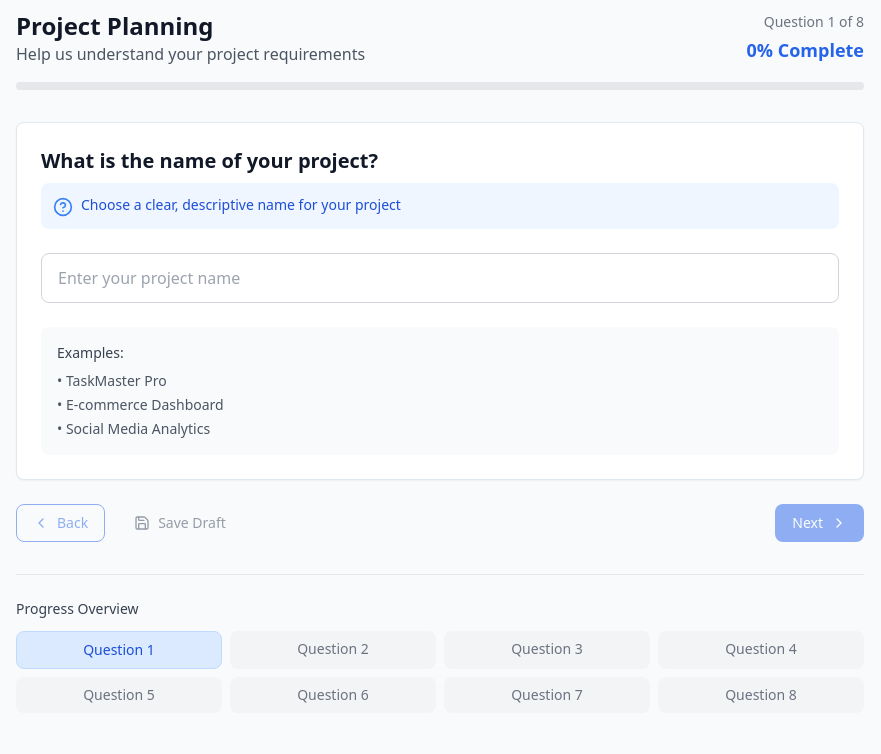
Scenario: PlanningFlow › Answer Persistence › should preserve answers when navigating back and forth
The image size is (881, 754).
# Fill first question
In the field with placeholder "Enter your project name": (440, 278) [41,253,839,303], type "Test Project"
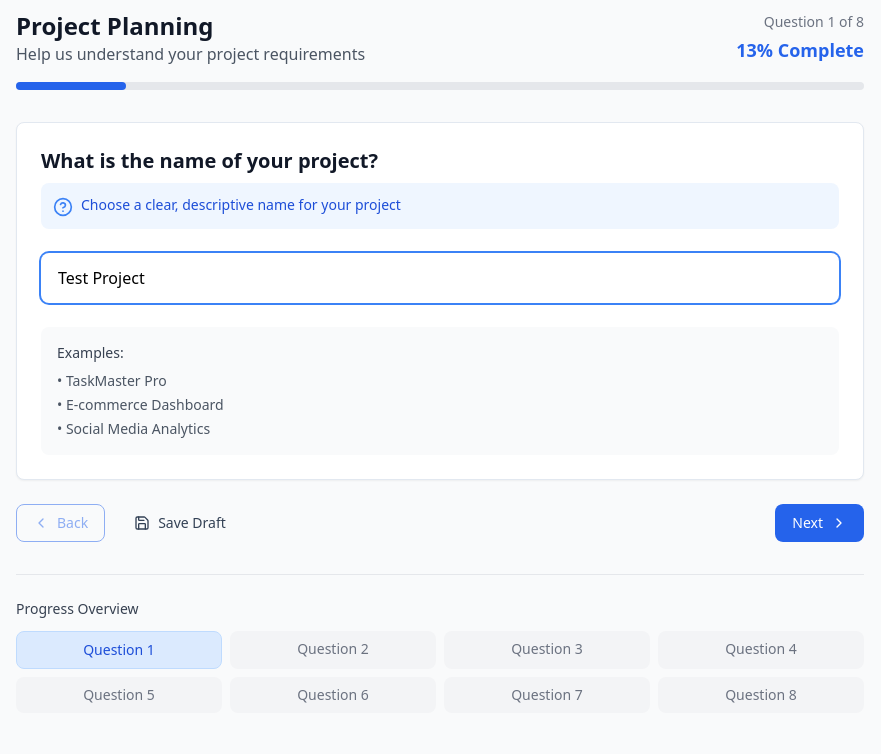
Check: the button "Next" is enabled
Click the button "Next": (820, 523) [775,504,864,542]
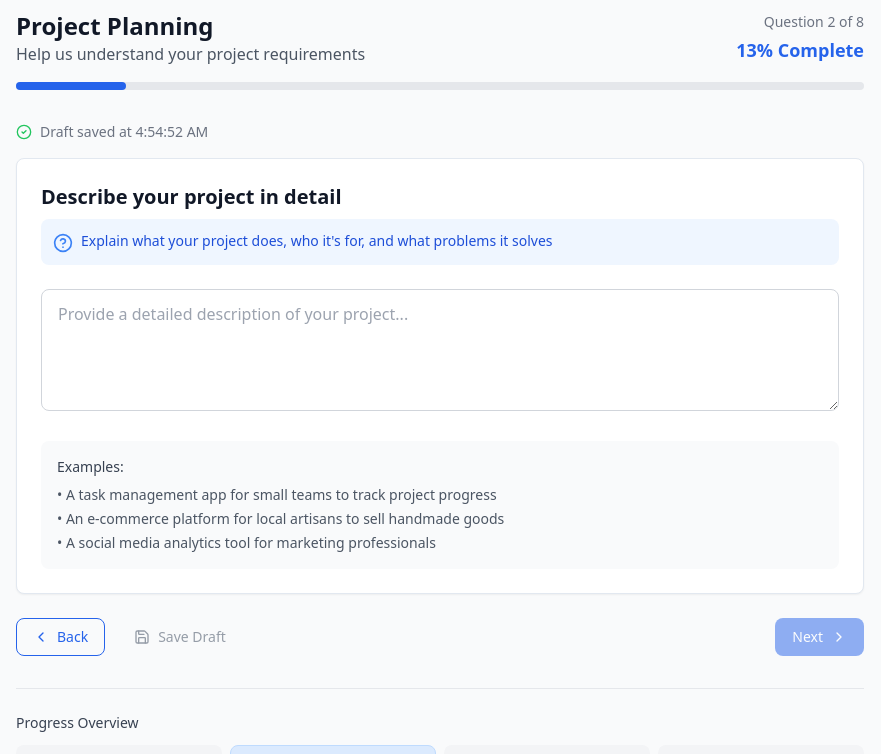
Check: the button "Back" is enabled
Click the button "Back": (61, 637) [16,618,105,656]
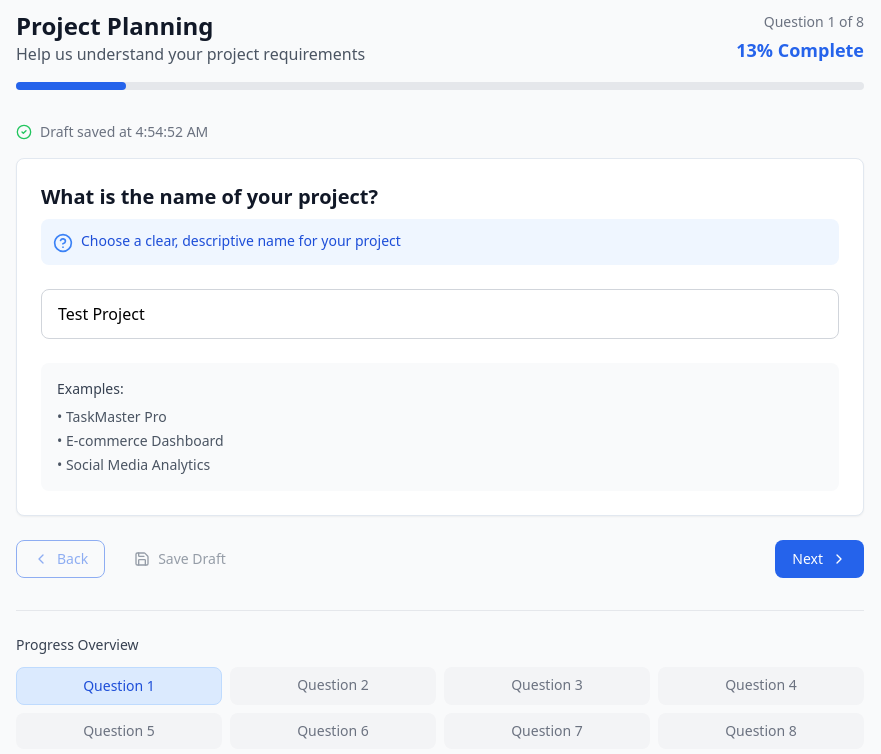
Check: the field showing "Test Project" is shown, box [41,289,839,339]
